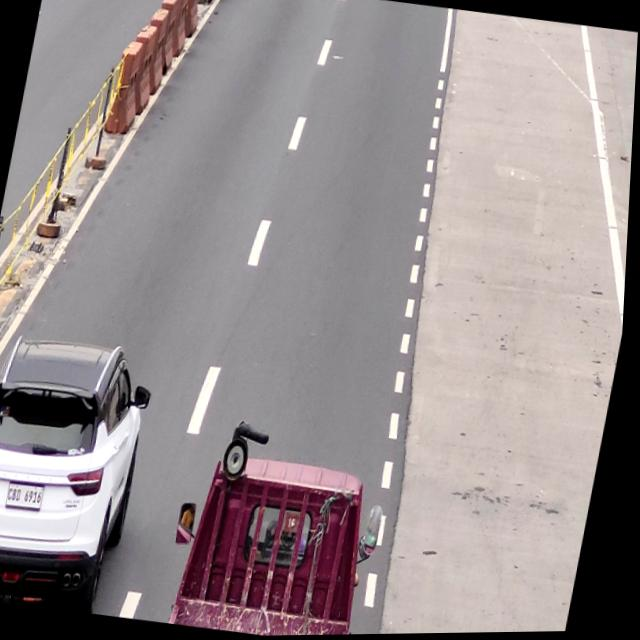Car: (0, 330, 160, 615)
License-Plate: (7, 482, 51, 518)
Truck: (176, 418, 397, 638)
